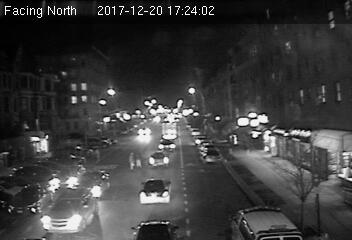car: (39, 188, 98, 231), (72, 168, 111, 197), (140, 178, 173, 203), (147, 151, 169, 166), (203, 149, 221, 163), (158, 139, 175, 151)
police: (229, 204, 313, 240)
